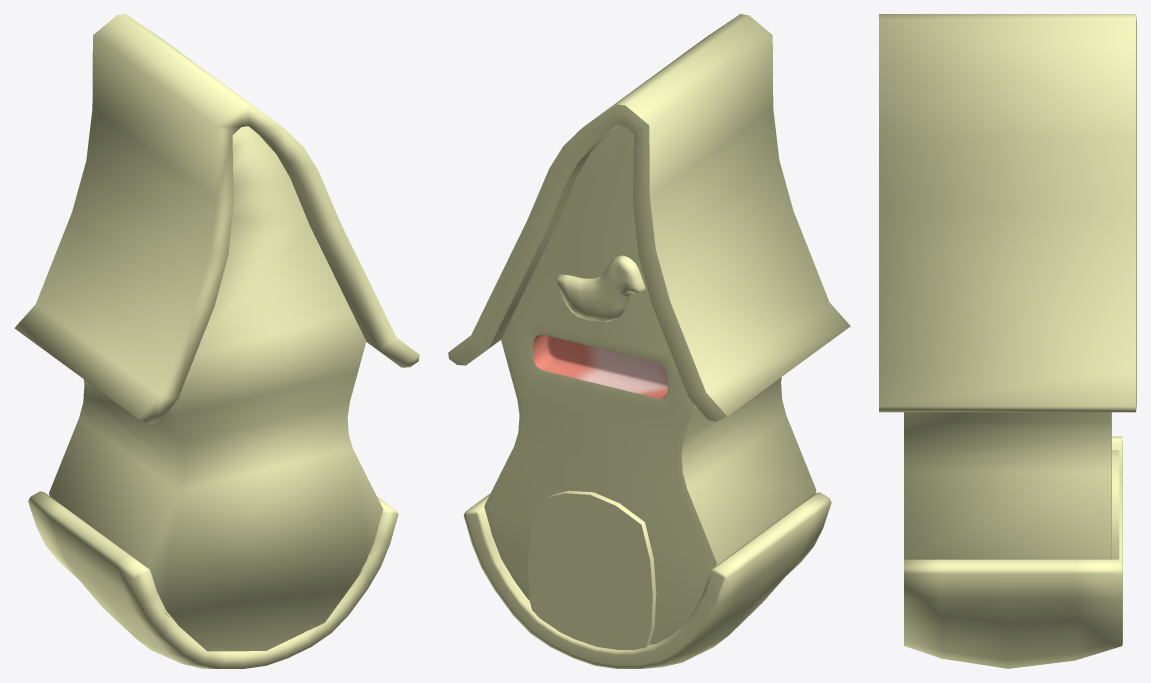
File: MailboxD_blue.fbx
The picture shows the model from 3 angles, left to right: view 1: azimuth 30°, elevation 25°; view 2: azimuth 150°, elevation 25°; view 3: azimuth 270°, elevation 25°; orthographic projection. The views are drawn at different scales.
Parts seen in each view (by area): view 1: MailboxD_base.001, MailboxD_roof.001; view 2: MailboxD_roof.001, MailboxD_base.001, MailboxD_birdie.001; view 3: MailboxD_roof.001, MailboxD_base.001.
Part boxes in pixels (<box>): MailboxD_base.001: <box>49,126,383,651</box>; MailboxD_roof.001: <box>14,14,419,668</box>; MailboxD_roof.001: <box>448,14,850,668</box>; MailboxD_base.001: <box>484,125,816,644</box>; MailboxD_birdie.001: <box>557,255,645,321</box>; MailboxD_roof.001: <box>879,14,1136,668</box>; MailboxD_base.001: <box>904,412,1111,559</box>.
Size of the model in its own units: 120 by 245 by 92.07.
